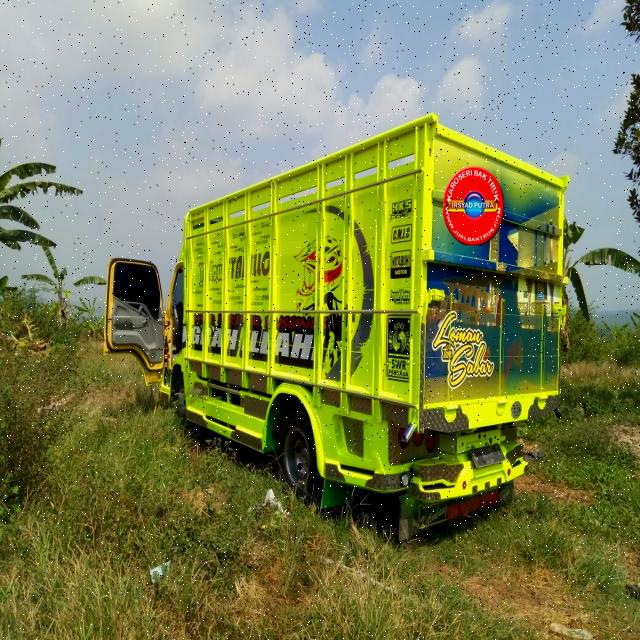truck: (102, 110, 567, 541)
